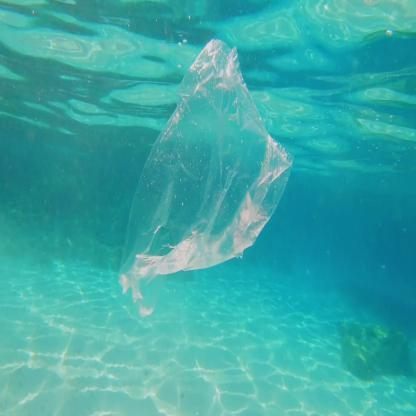Rác: (91, 34, 320, 284)
